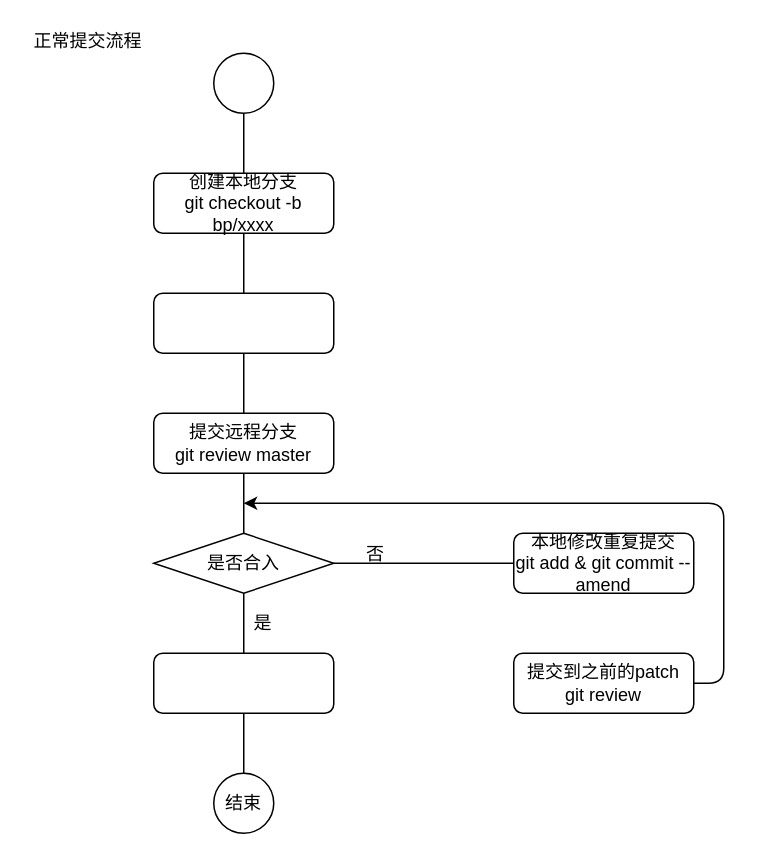
Image size: 762x860. Some labels were removed from this diagram. The shapes that lost their labels are listed below. From the top down, each one's box as (x1, y1, x2, y2) in pixels, then its label:
(212, 52, 274, 113): 开始
(152, 292, 334, 353): git add & git commit -m
(152, 652, 334, 713): 合入
